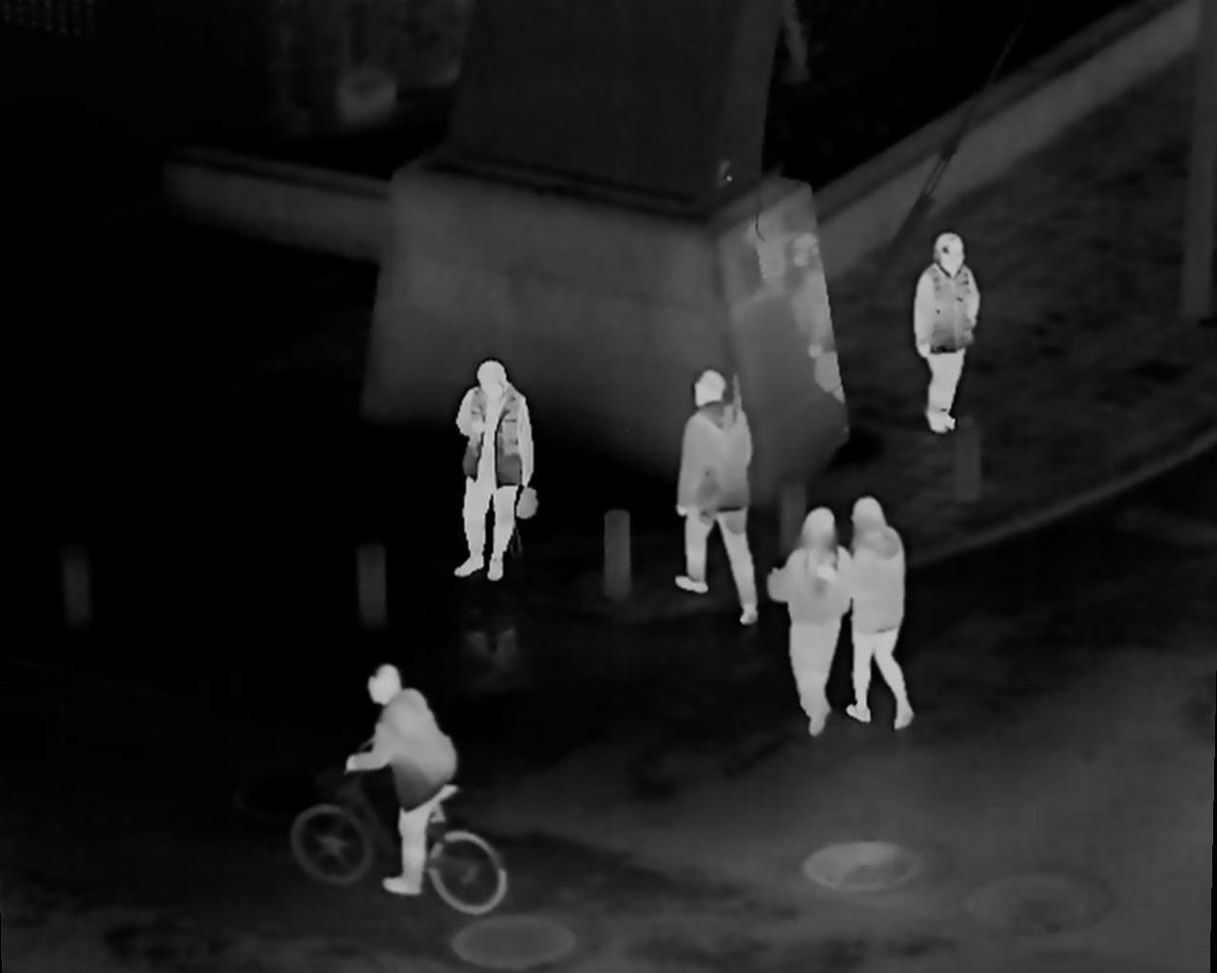person: (344, 668, 461, 902), (671, 365, 758, 623), (454, 359, 537, 585), (844, 497, 923, 729), (774, 503, 853, 733), (918, 224, 976, 440)
